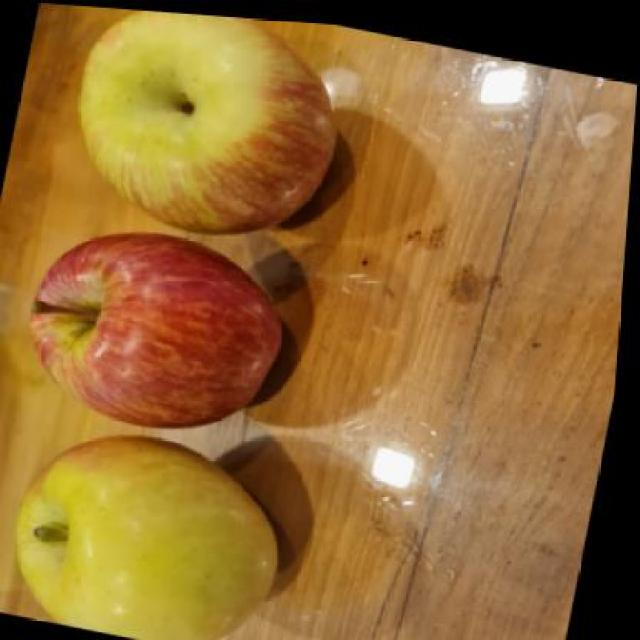Fresh Apple: (72, 17, 352, 238), (10, 435, 282, 640), (19, 234, 280, 431)
